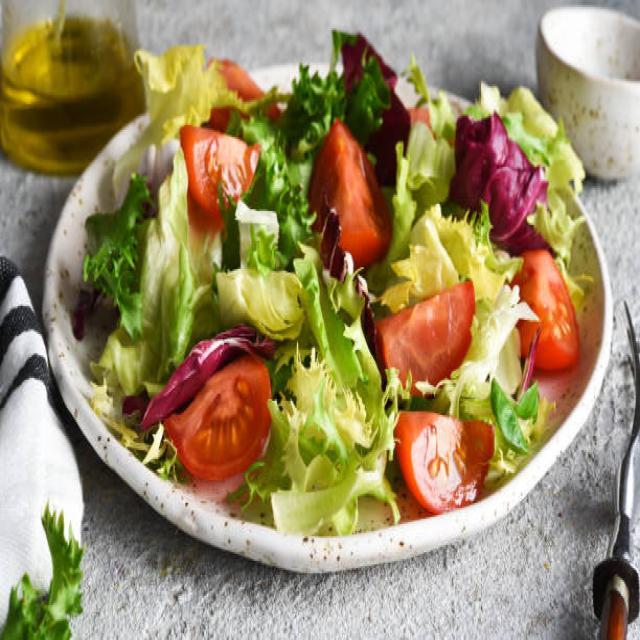Tomato: (315, 122, 398, 268), (173, 114, 276, 228)
